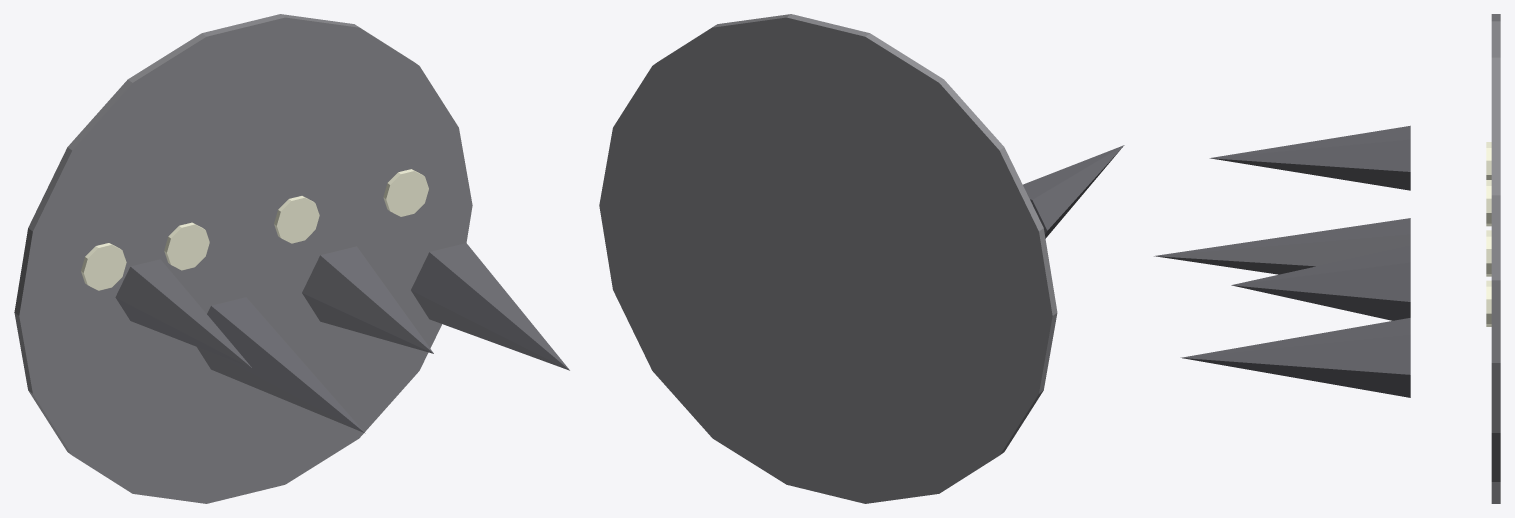
The model's file is 04_event_hazard_cluster.glb.
3 renders of one model, left to right at view 1: azimuth 30°, elevation 25°; view 2: azimuth 150°, elevation 25°; view 3: azimuth 270°, elevation 25°, orthographic. The views are drawn at different scales.
Visible parts, largest first — view 1: scatter_base, basalt_shard_3, basalt_shard_1, basalt_shard_2, basalt_shard_0, lava_glow_1, lava_glow_3, lava_glow_0, lava_glow_2; view 2: scatter_base, basalt_shard_0; view 3: basalt_shard_3, basalt_shard_2, basalt_shard_1, basalt_shard_0, scatter_base.
Boxes of the visible parts, x1,y1,x2,y2 form: scatter_base: (14,14,472,503); basalt_shard_3: (411,243,569,370); basalt_shard_1: (197,297,365,433); basalt_shard_2: (302,246,433,353); basalt_shard_0: (115,259,252,368); lava_glow_1: (164,222,209,270); lava_glow_3: (383,169,428,216); lava_glow_0: (81,243,126,290); lava_glow_2: (274,196,319,243); scatter_base: (599,14,1057,503); basalt_shard_0: (1023,145,1124,238); basalt_shard_3: (1180,318,1410,397); basalt_shard_2: (1231,245,1410,320); basalt_shard_1: (1154,218,1410,274); basalt_shard_0: (1209,125,1410,190); scatter_base: (1491,14,1500,503).
Size of the model in its own units: 1.9 by 1.87 by 1.34.
